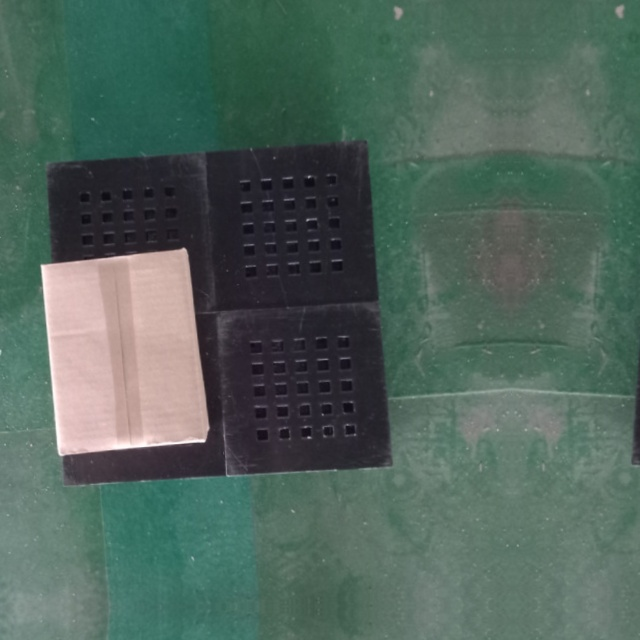box: (35, 234, 214, 470)
pallet: (38, 139, 397, 495)
